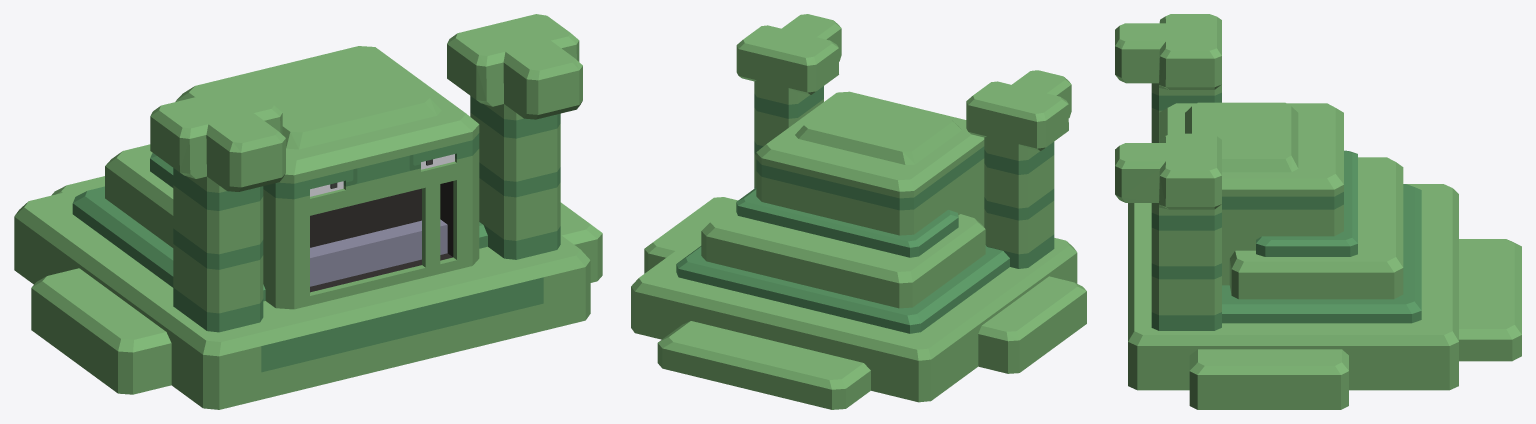
The model's file is model_shiny.obj.
The picture shows the model from 3 angles, left to right: view 1: azimuth 30°, elevation 25°; view 2: azimuth 150°, elevation 25°; view 3: azimuth 270°, elevation 25°; orthographic projection. The views are drawn at different scales.
Visible parts, largest first — view 1: 0089_muk_shiny; view 2: 0089_muk_shiny; view 3: 0089_muk_shiny.
Boxes of the visible parts, <box> form: 0089_muk_shiny: <box>14,14,602,409</box>; 0089_muk_shiny: <box>631,14,1086,409</box>; 0089_muk_shiny: <box>1115,14,1521,409</box>.
Bounding box in the file's own units: 4.04 × 2.12 × 3.55.
Materials: 1 (1 with a texture image).
